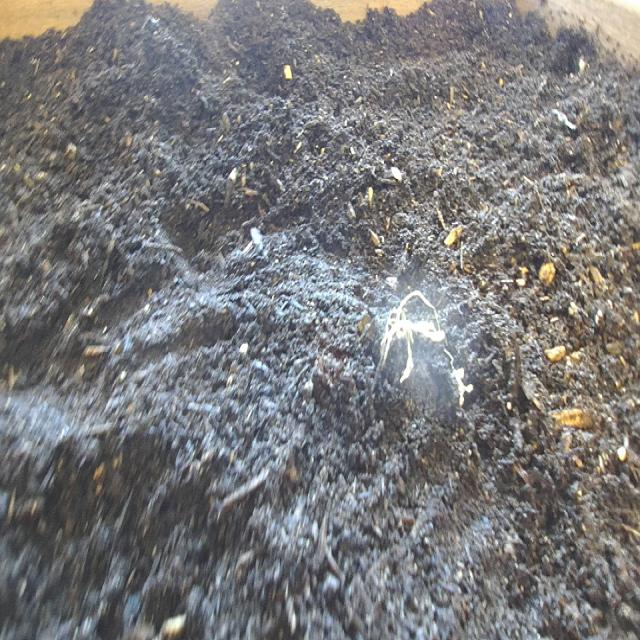Unhealthy: (360, 258, 481, 430)
